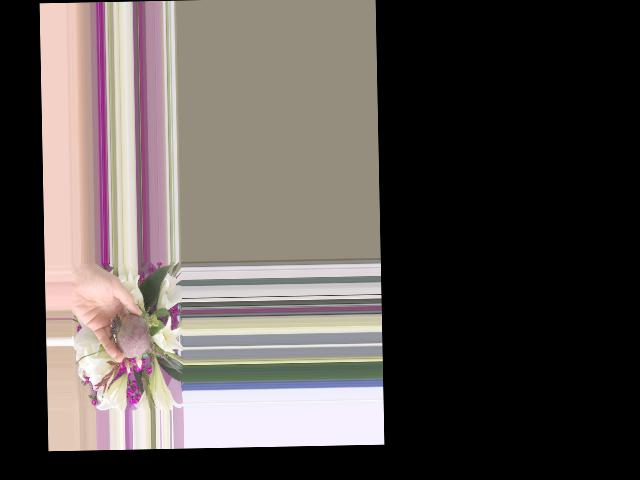beet: (110, 312, 181, 375)
